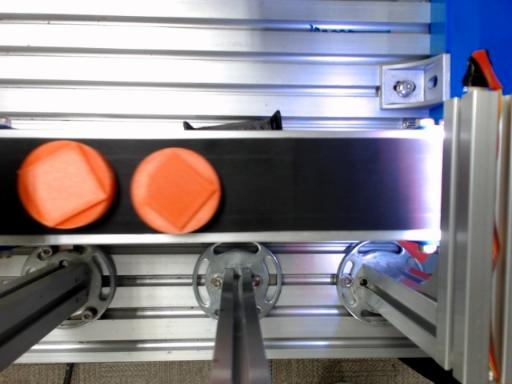Orange_Waper: (18, 141, 114, 227), (131, 148, 221, 234)
